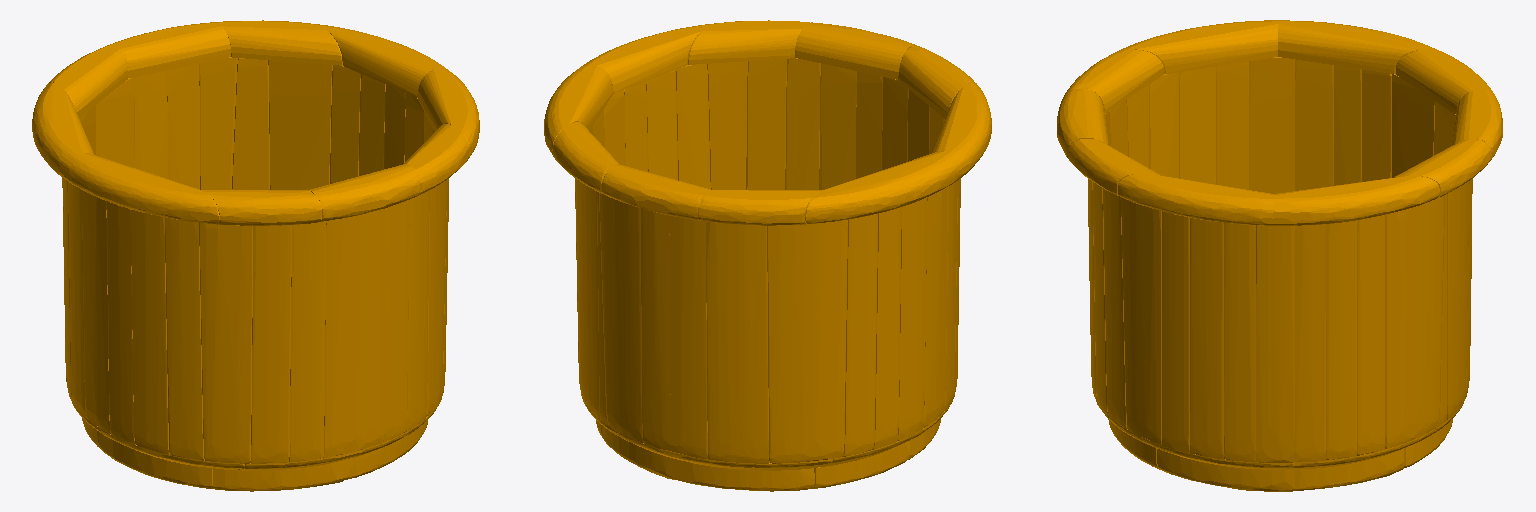
URDF robot description (065-i_cups):
<?xml version="1.0" encoding="UTF-8"?>
<robot name="065-i_cups">
	<link name="base">
		<collision>
			<geometry>
				<mesh filename="..\vhacd\065-i_cups_vhacd.obj" scale="1.0 1.0 1.0"/>
			</geometry>
			<origin xyz="0 0 0"/>
			<contact_coefficients mu="0.24" />
		</collision>
		<visual>
			<geometry>
				<mesh filename="..\vhacd\065-i_cups_vhacd.obj" scale="1.0 1.0 1.0"/>
			</geometry>
			<origin xyz="0 0 0"/>
		</visual>
		<inertial>
			<mass value="0"/>
			<inertia ixx="0.0" ixy="-0.0" ixz="0.0" iyy="0.0" iyz="0.0" izz="0.0" />
			<origin xyz="-0.01098196941136019 0.0023034318584147415 0.03669757457974062"/>
		</inertial>
	</link>
</robot>

--- Render facts (derived) ---
The picture shows the robot from 3 angles, left to right: view 1: azimuth 30°, elevation 25°; view 2: azimuth 150°, elevation 25°; view 3: azimuth 270°, elevation 25°; orthographic projection.
Robot: 065-i_cups — 1 links, 0 joints (none); root link base; default pose: every joint at zero.
Links seen in each view (by area): view 1: base; view 2: base; view 3: base.
Boxes of the visible links, x1,y1,x2,y2 form: base: (32, 20, 479, 491); base: (544, 20, 991, 491); base: (1057, 20, 1502, 491).
Size in the robot's own frame: 0.0984 by 0.0982 by 0.0758 metres.
1 mesh visuals loaded from 1 distinct referenced files (1 OBJ).